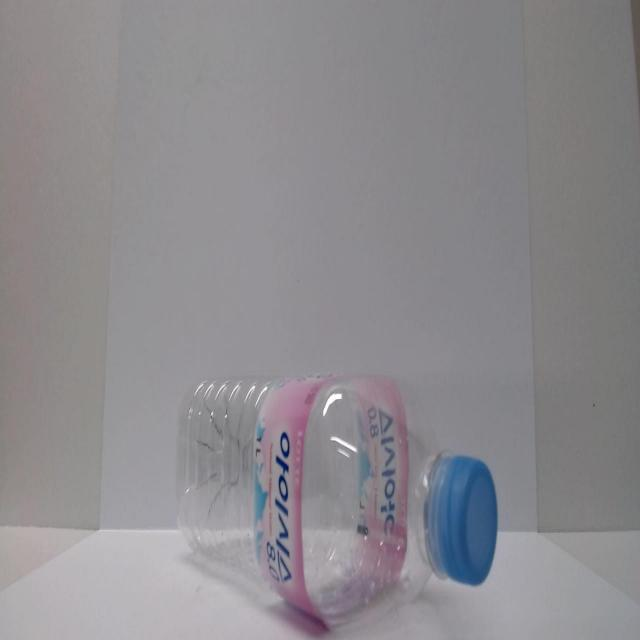bottle: (158, 361, 506, 640)
